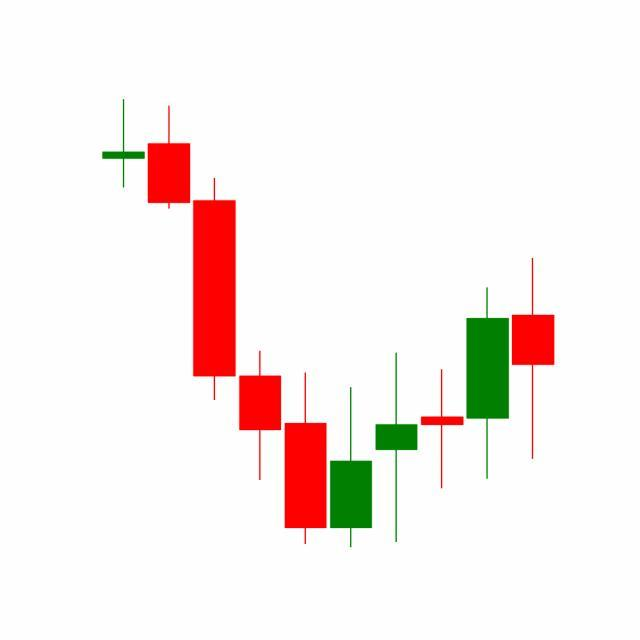Hikkake Pattern: (283, 284, 512, 549)
